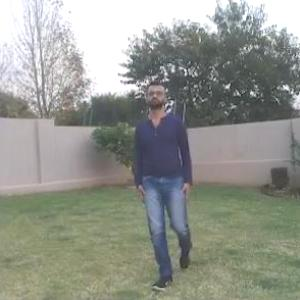follow: (133, 73, 194, 280)
